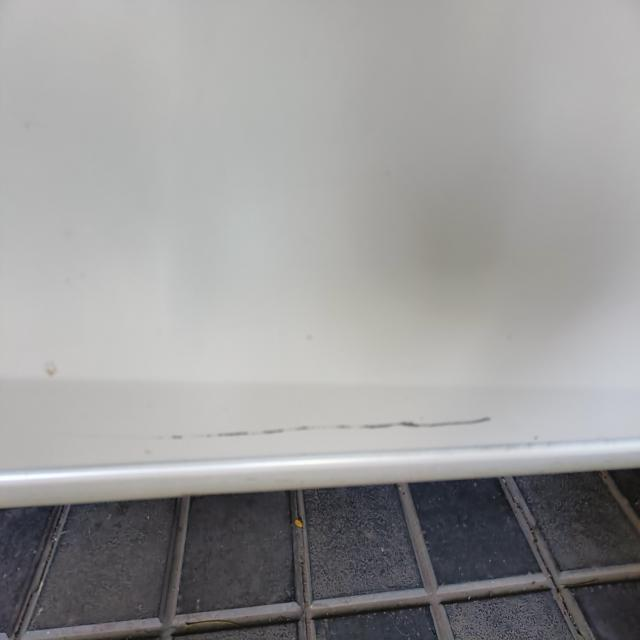scratch: (112, 408, 497, 446)
